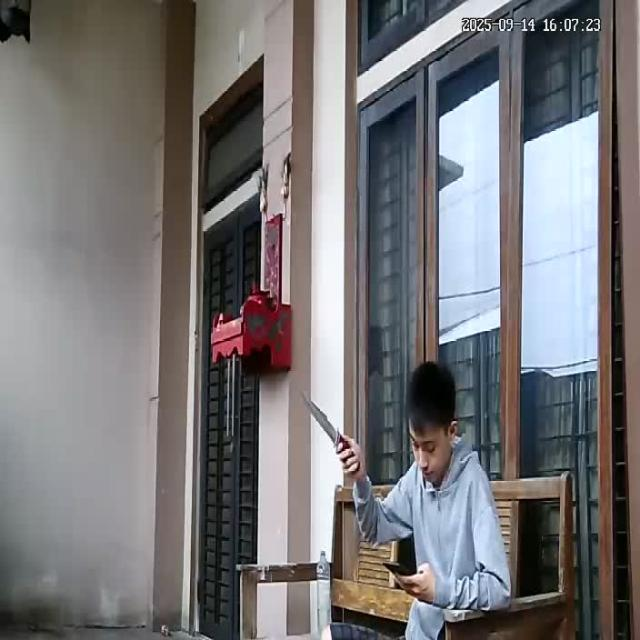senjata_tajam: (299, 388, 341, 454)
